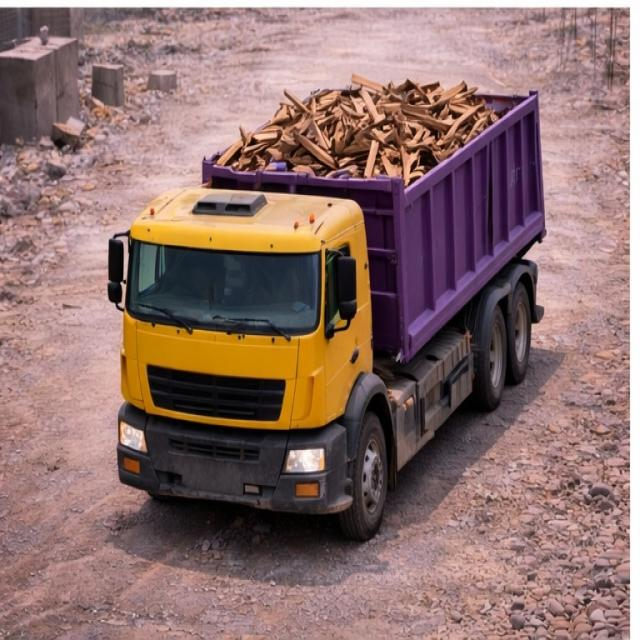Box: (191, 77, 544, 185)
Truck: (97, 59, 551, 520)
